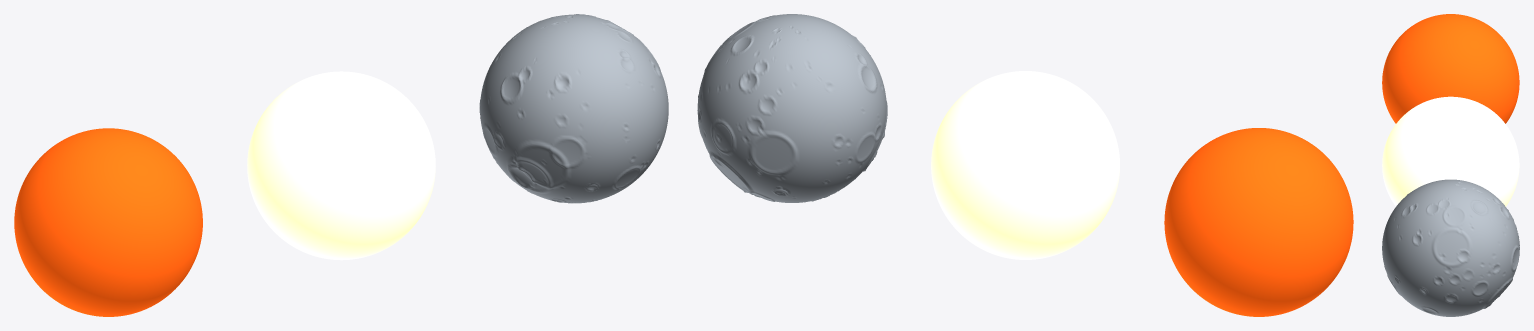
Rendered from celestial-spheres.glb.
3 renders of one model, left to right at view 1: azimuth 30°, elevation 25°; view 2: azimuth 150°, elevation 25°; view 3: azimuth 270°, elevation 25°, orthographic. The views are drawn at different scales.
Parts seen in each view (by area): view 1: moon_regolith, midday_sun_surface, rising_sun_surface; view 2: moon_regolith, rising_sun_surface, midday_sun_surface; view 3: moon_regolith, rising_sun_surface, midday_sun_surface.
Boxes of the visible parts, <box> form: moon_regolith: <box>479,14,668,203</box>; midday_sun_surface: <box>247,71,435,260</box>; rising_sun_surface: <box>14,128,202,316</box>; moon_regolith: <box>697,14,887,202</box>; rising_sun_surface: <box>1164,128,1353,316</box>; midday_sun_surface: <box>931,71,1119,259</box>; moon_regolith: <box>1382,179,1519,316</box>; rising_sun_surface: <box>1382,14,1519,123</box>; midday_sun_surface: <box>1382,96,1519,206</box>.
Size of the model in its own units: 7.71 by 2 by 2.01.
